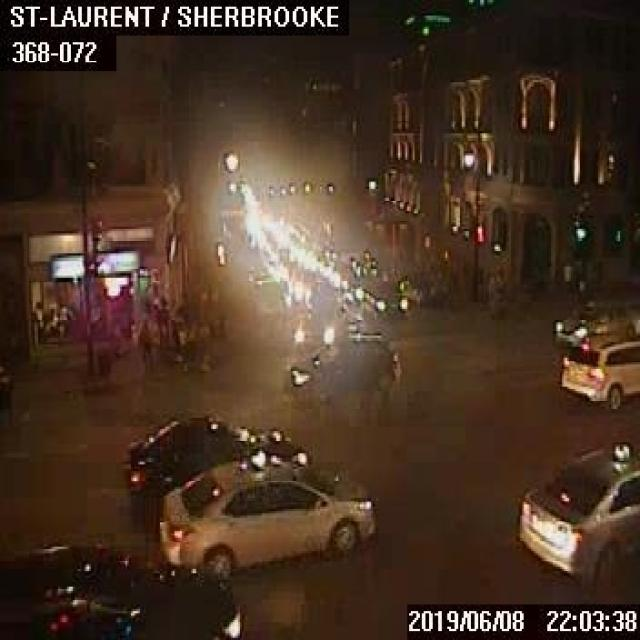pedestrian: (133, 320, 149, 376), (154, 292, 170, 345)
vehicle: (158, 448, 374, 576), (0, 540, 238, 638), (120, 414, 309, 511), (515, 444, 638, 584), (282, 328, 394, 402), (558, 333, 638, 407), (550, 298, 638, 345), (362, 278, 405, 318)
